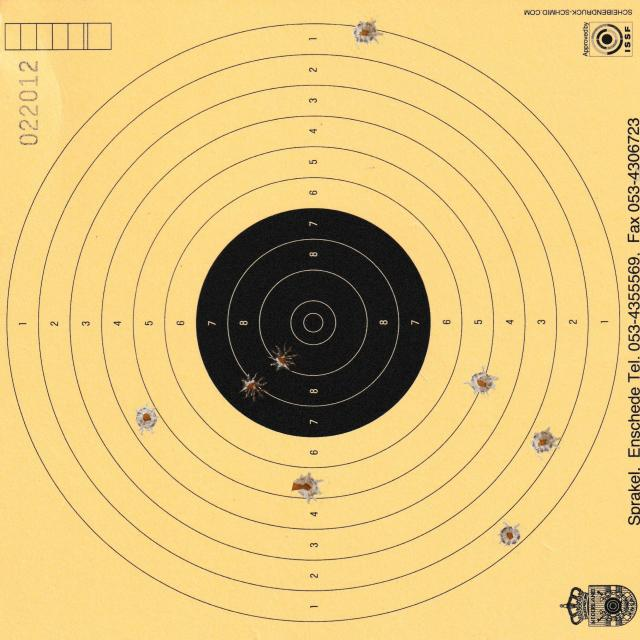1: (350, 16, 385, 51), (498, 521, 521, 547)
2: (530, 426, 563, 458)
5: (463, 366, 498, 397), (291, 473, 324, 503), (136, 402, 161, 437)
8: (239, 370, 270, 405)
9: (264, 341, 302, 373)
Target: (7, 21, 620, 625)
black_contour: (198, 208, 432, 438)
